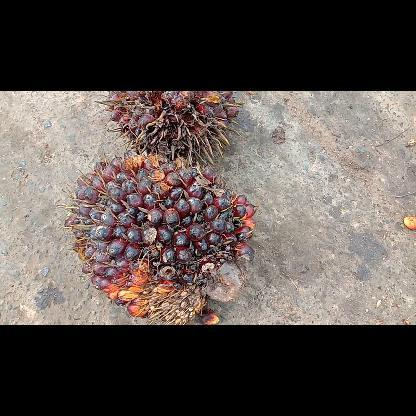Kurang masak: (60, 146, 256, 324)
TBS masak: (95, 91, 241, 165)
